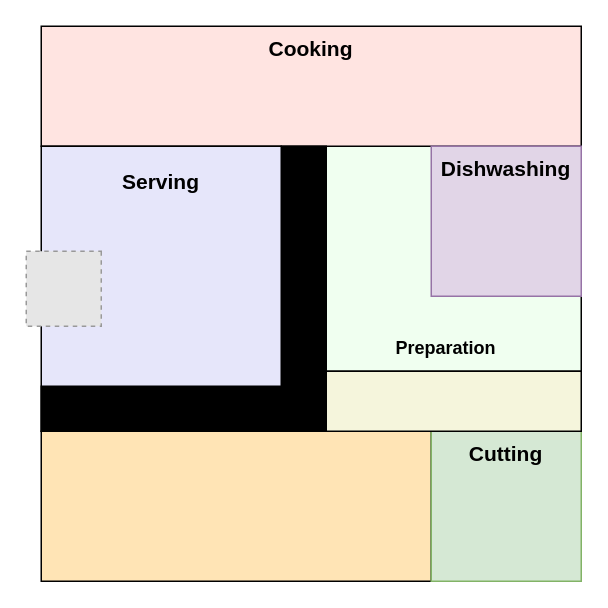
Some shapes in this 608 by 608 pixel diagram are drawn without their labels. Grey dashed boxes stand in for pictures. The shapes that lost their labels are listed below. From the top down, each one's centre as x and y in pixels, then its label:
[453,400]: Mixing
[235,505]: Storage
